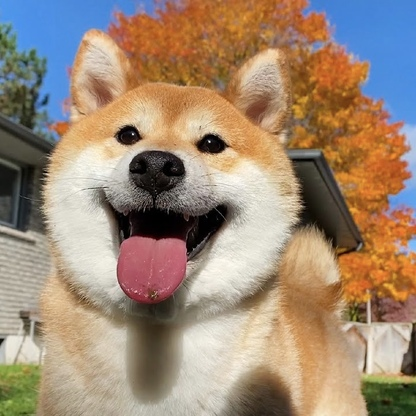shiba: (32, 22, 373, 416)
